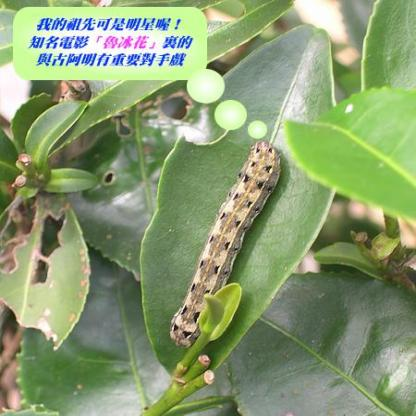armyworm: (161, 136, 283, 353)
